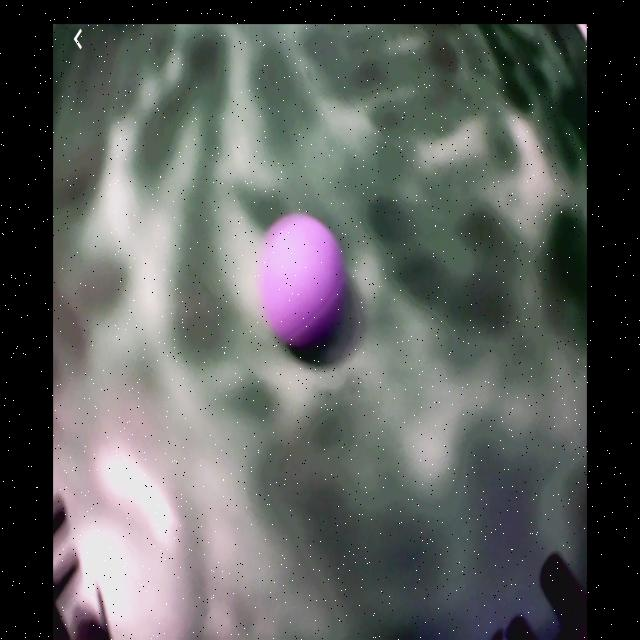ball: (259, 215, 348, 355)
